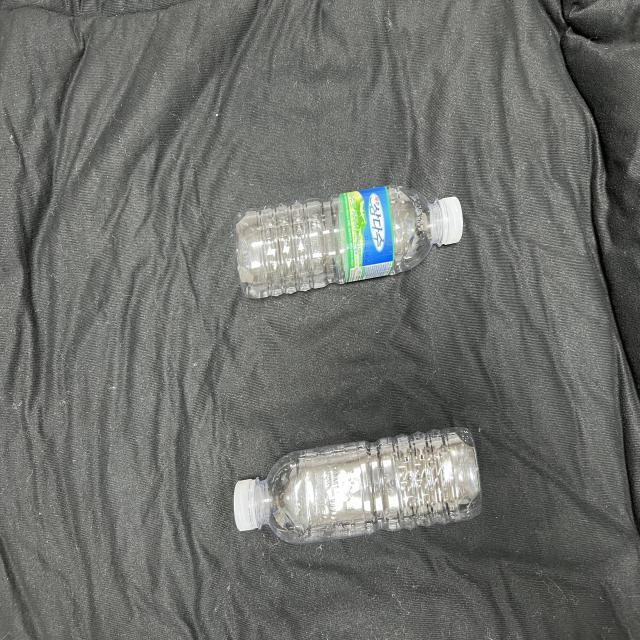good: (223, 409, 499, 560), (222, 168, 480, 300)
